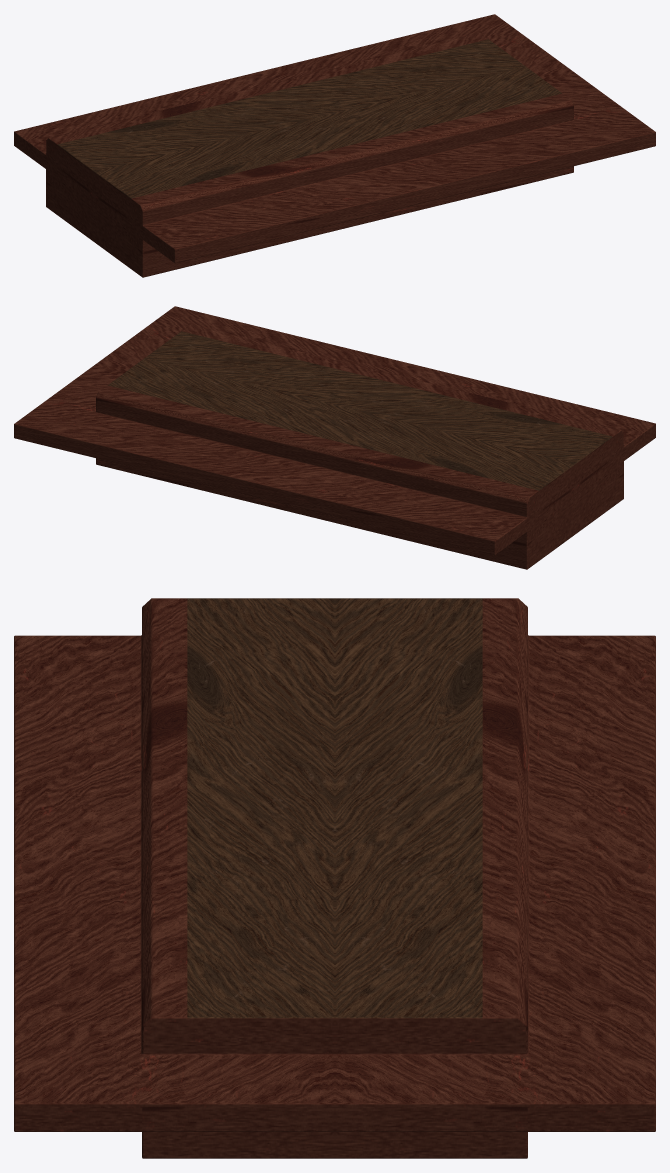
The model's file is Table.glb.
The picture shows the model from 3 angles, top to bottom: view 1: azimuth 30°, elevation 25°; view 2: azimuth 150°, elevation 25°; view 3: azimuth 270°, elevation 25°; orthographic projection. The views are drawn at different scales.
Parts seen in each view (by area): view 1: Table_Baked; view 2: Table_Baked; view 3: Table_Baked.
Boxes of the visible parts, <box> form: Table_Baked: <box>14,14,655,277</box>; Table_Baked: <box>14,306,655,569</box>; Table_Baked: <box>14,598,655,1158</box>.
Size of the model in its own units: 8.8 by 1.24 by 5.1.
Materials: 1 (1 with a texture image).
